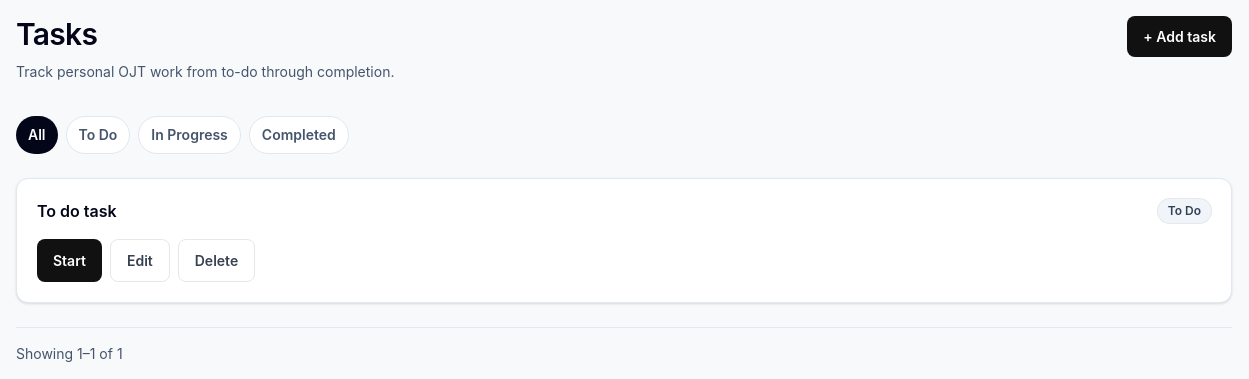
Test: student TasksView › shows a no-match state for a selected task filter
This screenshot has width=1249, height=379.
What coordinates should you click on to do the following:
click the button with test id "filter-completed"
I would click on:
 (299, 135)
Its box is [249,116,349,154].
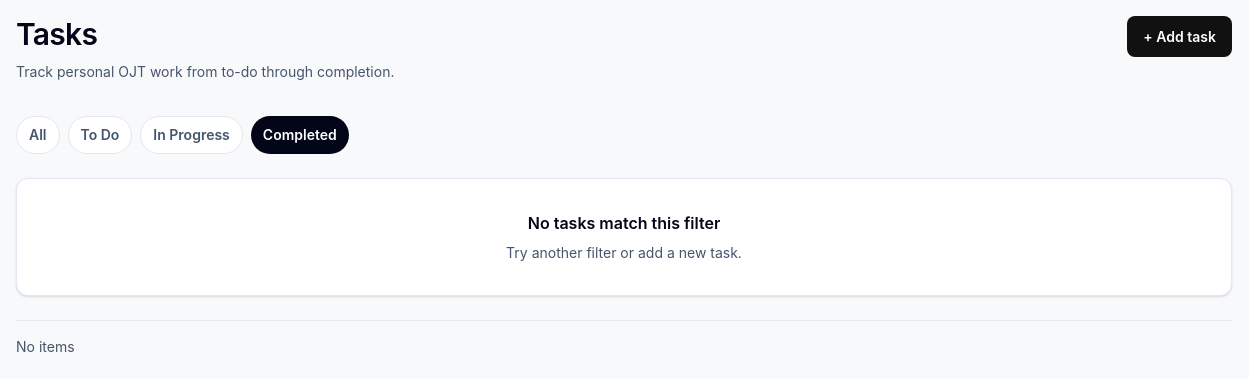
Expected: the text "No tasks match this filter" is shown, [528,213,720,233]
